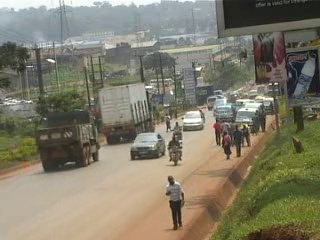Car: (128, 128, 166, 162), (178, 107, 205, 132), (210, 96, 232, 117)
Motorcycle: (167, 140, 185, 166), (170, 125, 186, 144)
